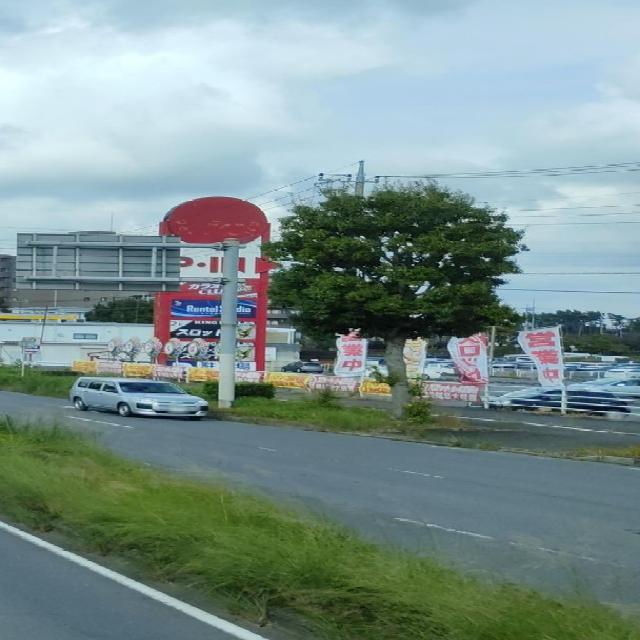maple: (257, 174, 532, 419)
